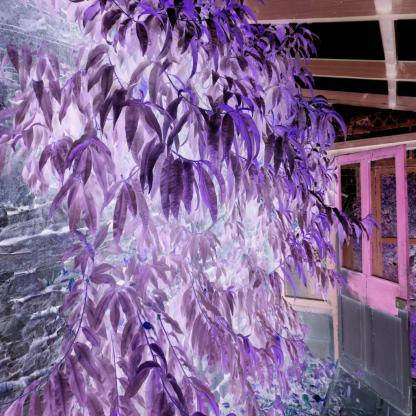peach leaf: (110, 180, 130, 248), (65, 354, 87, 405), (73, 340, 101, 379), (91, 292, 117, 331), (124, 366, 153, 399), (79, 185, 96, 240), (168, 152, 181, 223), (13, 89, 35, 130), (119, 315, 138, 361), (221, 110, 236, 168), (124, 102, 140, 152), (100, 61, 115, 100), (79, 146, 92, 187), (197, 321, 209, 361)
